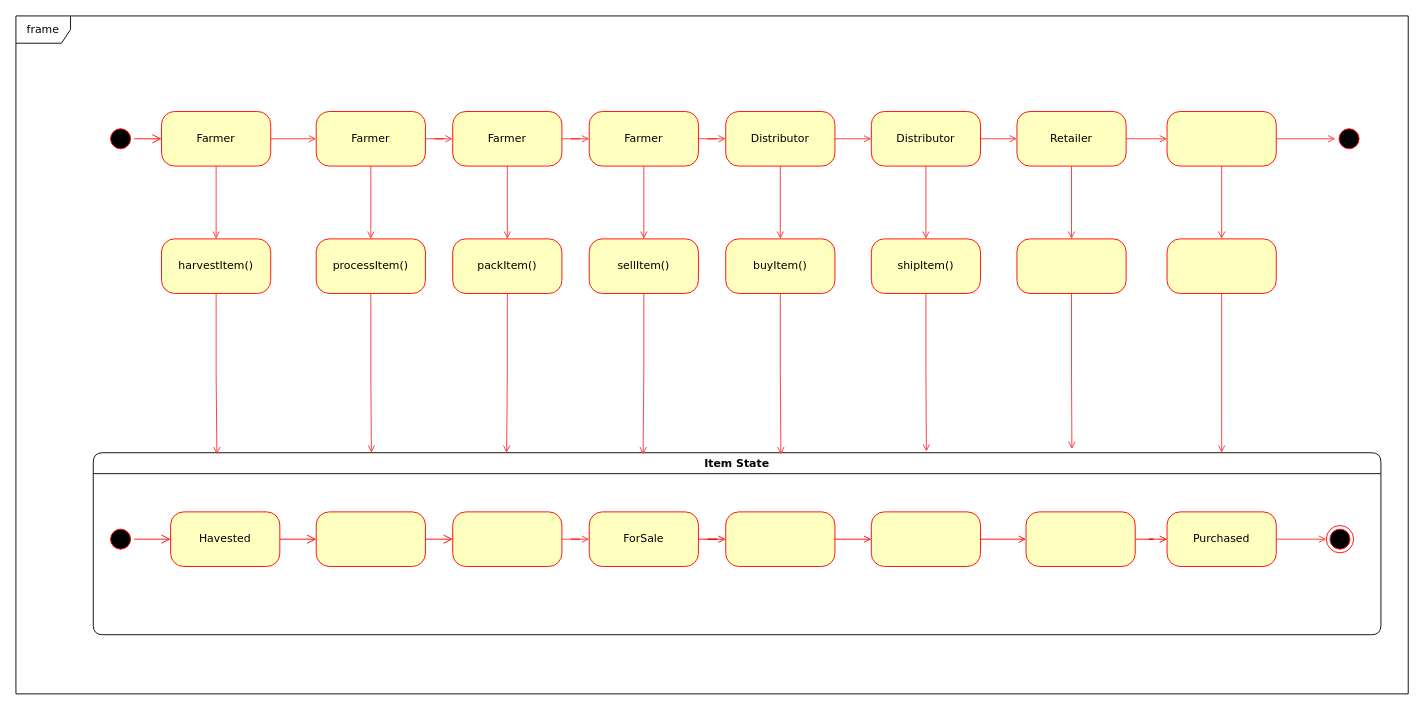
This 1424x710 diagram has some shape labels left out. Here are the shapes that lost their labels. From the top down, the centre of each, then its label:
point 1221,138: Consumer
point 1071,265: receiveItem()
point 1221,265: purchaseItem()
point 370,538: Processed
point 507,538: Packed
point 780,538: Sold
point 925,538: Shipped
point 1080,538: Received
